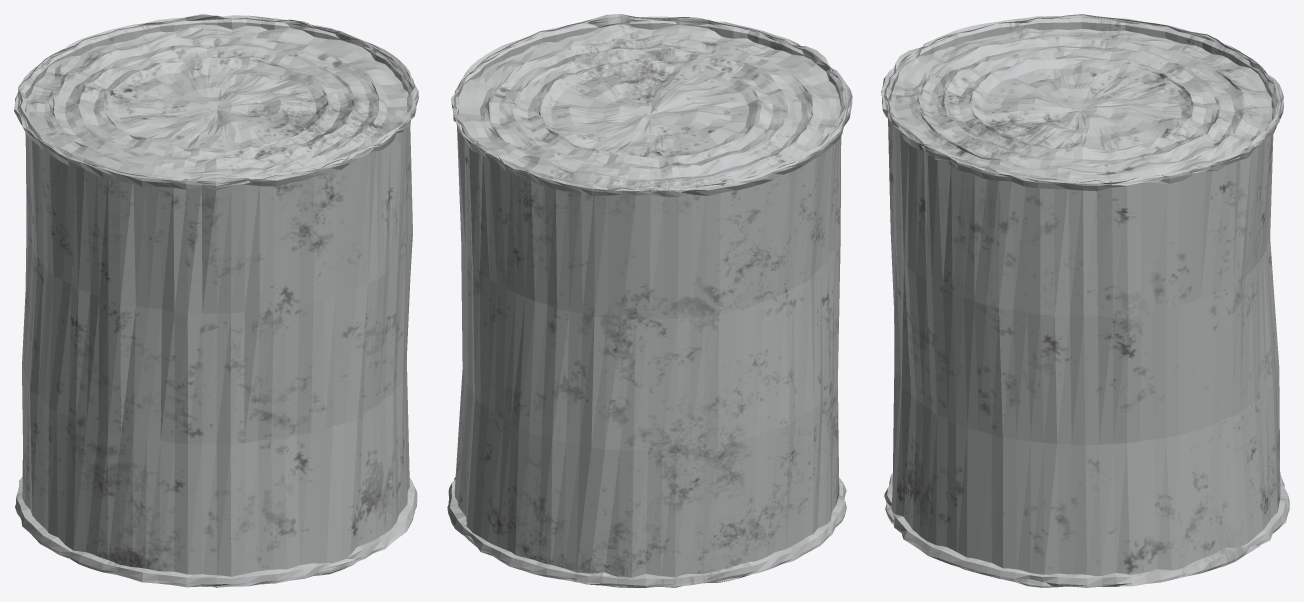
File: crush_low_0.obj
3 views of the same model, side by side, from view 1: azimuth 30°, elevation 25°; view 2: azimuth 150°, elevation 25°; view 3: azimuth 270°, elevation 25° (orthographic).
Visible parts, largest first — view 1: Cam_l__0; view 2: Cam_l__0; view 3: Cam_l__0.
Boxes of the visible parts, x1,y1,x2,y2 form: Cam_l__0: (14,14,418,587); Cam_l__0: (447,14,852,587); Cam_l__0: (881,14,1289,587).
Size of the model in its own units: 0.0927 by 0.1045 by 0.0935.
1 material, 1 textured.
